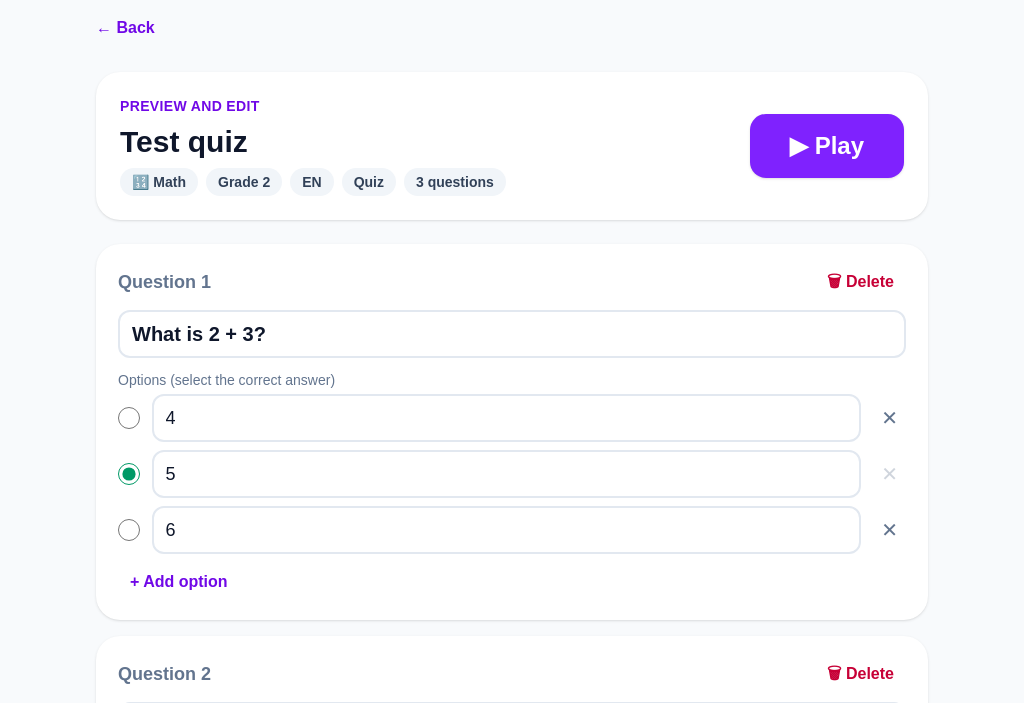
GameFlow › goes preview -> team setup -> play, using the teacher's edits
This screenshot has width=1024, height=703.
Click the button with aria-label "Delete question 1".
click(861, 282)  # box [815,266,906,298]
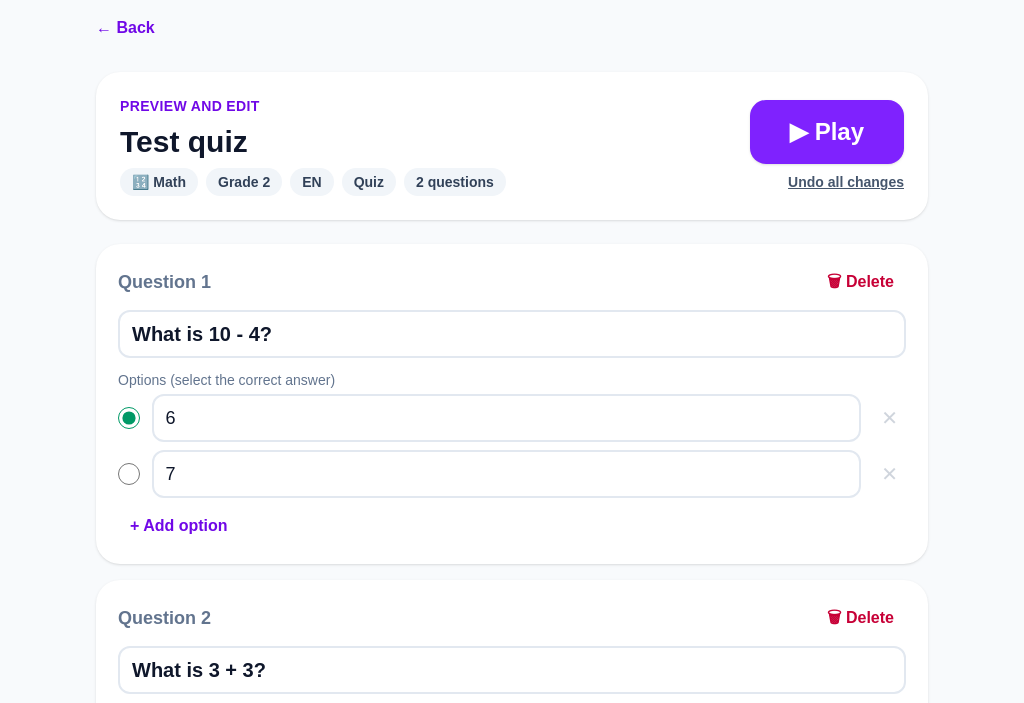
Click the button "▶ Play".
click(827, 132)  # box [750,100,904,164]
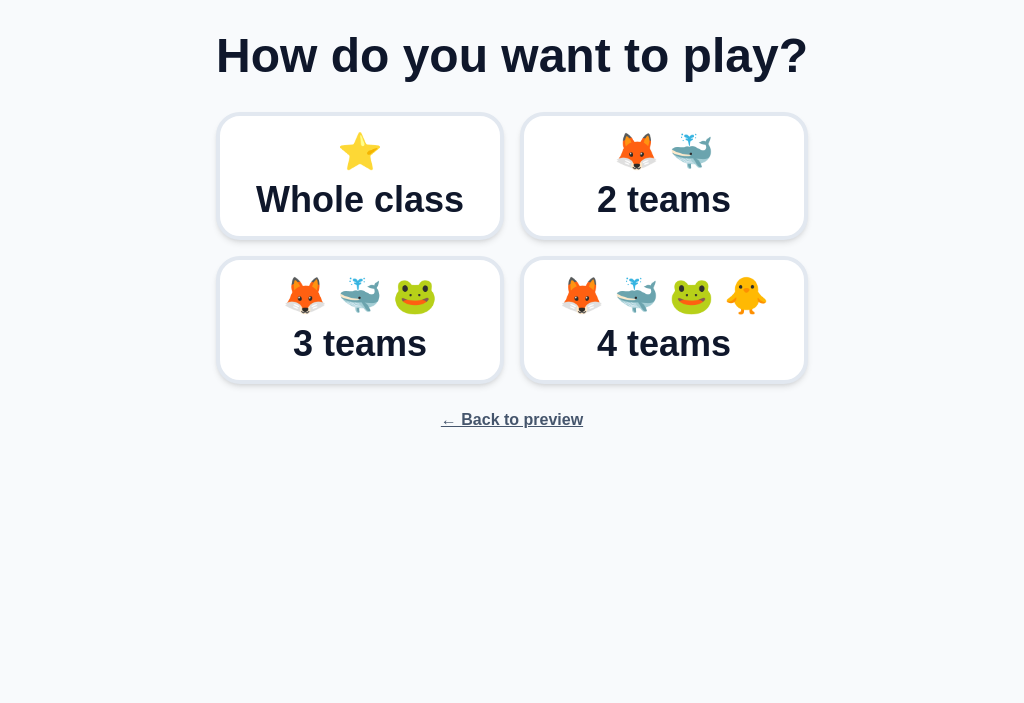
Check: the heading "How do you want to play?" is shown, box [216,32,808,80]
Click the button "🦊 🐳 2 teams".
click(664, 176)  # box [520,112,808,240]
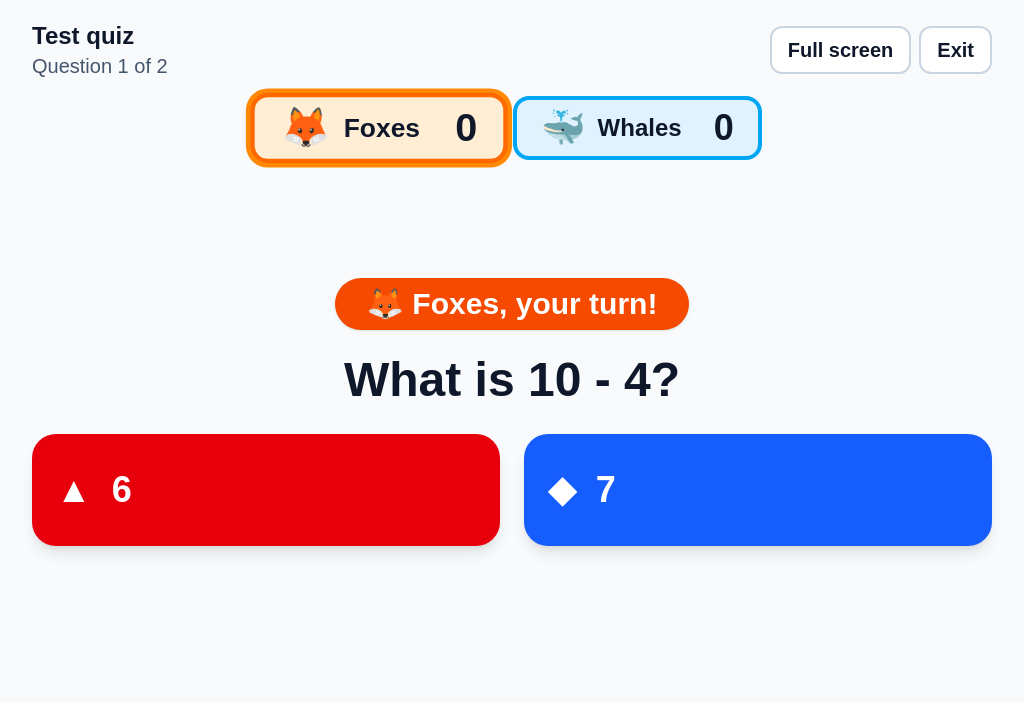
Check: the heading "What is 10 - 4?" is shown, box [344,353,680,406]
Check: the text "Question 1 of 2" is shown, box [32,52,168,80]
